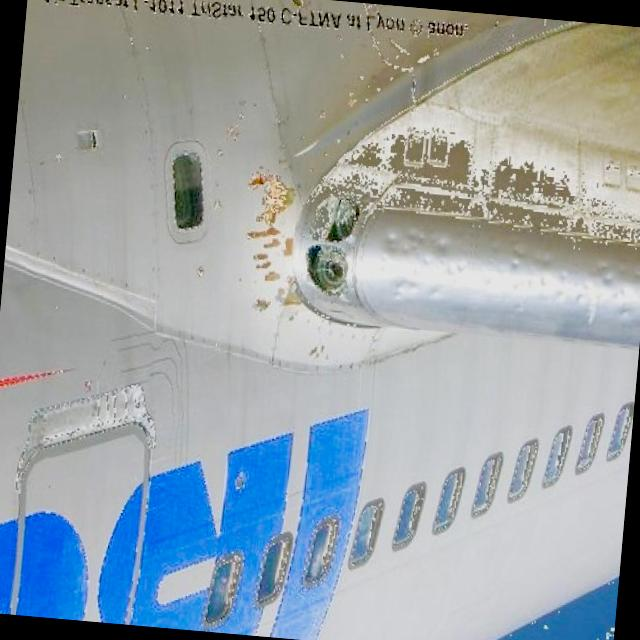dent: (372, 223, 640, 325)
